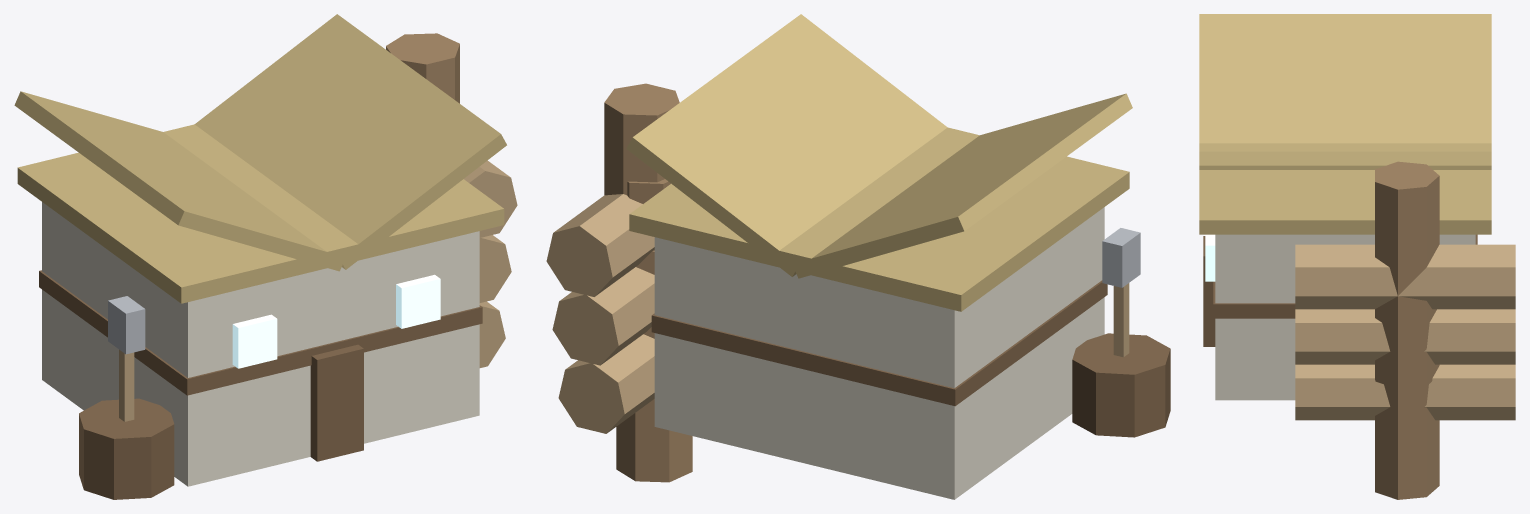
File: woodcutter.glb
The picture shows the model from 3 angles, left to right: view 1: azimuth 30°, elevation 25°; view 2: azimuth 150°, elevation 25°; view 3: azimuth 270°, elevation 25°; orthographic projection. The views are drawn at different scales.
Visible parts, largest first — view 1: WoodcutterWall, WoodcutterRoofSlabR, WoodcutterRoof, WoodcutterRoofSlabL, Stump, WoodcutterRail, WoodcutterDoor, LogStack2, WoodcutterWindow2, WoodcutterWindow, AxeHead, LogStack2Rot (+3 smaller); view 2: WoodcutterWall, WoodcutterRoofSlabR, WoodcutterRoof, WoodcutterRoofSlabL, Stump, WoodcutterRail, LogStack2Rot, LogStack1Rot, LogStack0Rot, LogStack2, LogStack0, AxeHead (+2 smaller); view 3: WoodcutterRoofSlabL, WoodcutterRoof, WoodcutterWall, LogStack2Rot, LogStack2, LogStack0Rot, LogStack1Rot, WoodcutterRoofSlabR, LogStack0, LogStack1, WoodcutterRail, WoodcutterDoor (+1 smaller).
Part boxes in pixels (box(x1,y1,x2,y2)): WoodcutterWall: box(42, 202, 479, 486); WoodcutterRoofSlabR: box(194, 14, 506, 269); WoodcutterRoof: box(17, 124, 504, 303); WoodcutterRoofSlabL: box(14, 91, 344, 271); Stump: box(79, 398, 174, 499); WoodcutterRail: box(39, 270, 482, 395); WoodcutterDoor: box(310, 344, 363, 461); LogStack2: box(386, 33, 459, 103); WoodcutterWindow2: box(232, 314, 277, 368); WoodcutterWindow: box(396, 274, 440, 328); AxeHead: box(108, 296, 145, 354); LogStack2Rot: box(464, 160, 517, 237); WoodcutterWall: box(654, 207, 1104, 499); WoodcutterRoofSlabR: box(626, 14, 947, 276); WoodcutterRoof: box(629, 127, 1129, 311); WoodcutterRoofSlabL: box(795, 93, 1132, 278); Stump: box(1072, 333, 1170, 437); WoodcutterRail: box(651, 280, 1107, 406); LogStack2Rot: box(546, 194, 654, 296); LogStack1Rot: box(552, 267, 654, 365); LogStack0Rot: box(558, 334, 654, 433); LogStack2: box(604, 83, 679, 195); LogStack0: box(616, 250, 692, 482); AxeHead: box(1102, 228, 1140, 287); WoodcutterRoofSlabL: box(1199, 14, 1491, 143); WoodcutterRoof: box(1199, 143, 1491, 234); WoodcutterWall: box(1215, 234, 1475, 400); LogStack2Rot: box(1295, 244, 1515, 309); LogStack2: box(1375, 161, 1439, 388); LogStack0Rot: box(1295, 364, 1515, 420); LogStack1Rot: box(1295, 309, 1515, 364); WoodcutterRoofSlabR: box(1199, 151, 1491, 169); LogStack0: box(1375, 430, 1439, 499); LogStack1: box(1375, 384, 1439, 444); WoodcutterRail: box(1213, 234, 1477, 318); WoodcutterDoor: box(1203, 236, 1215, 346).
Bounding box in the file's own units: 2.35 × 1.78 × 1.58.
